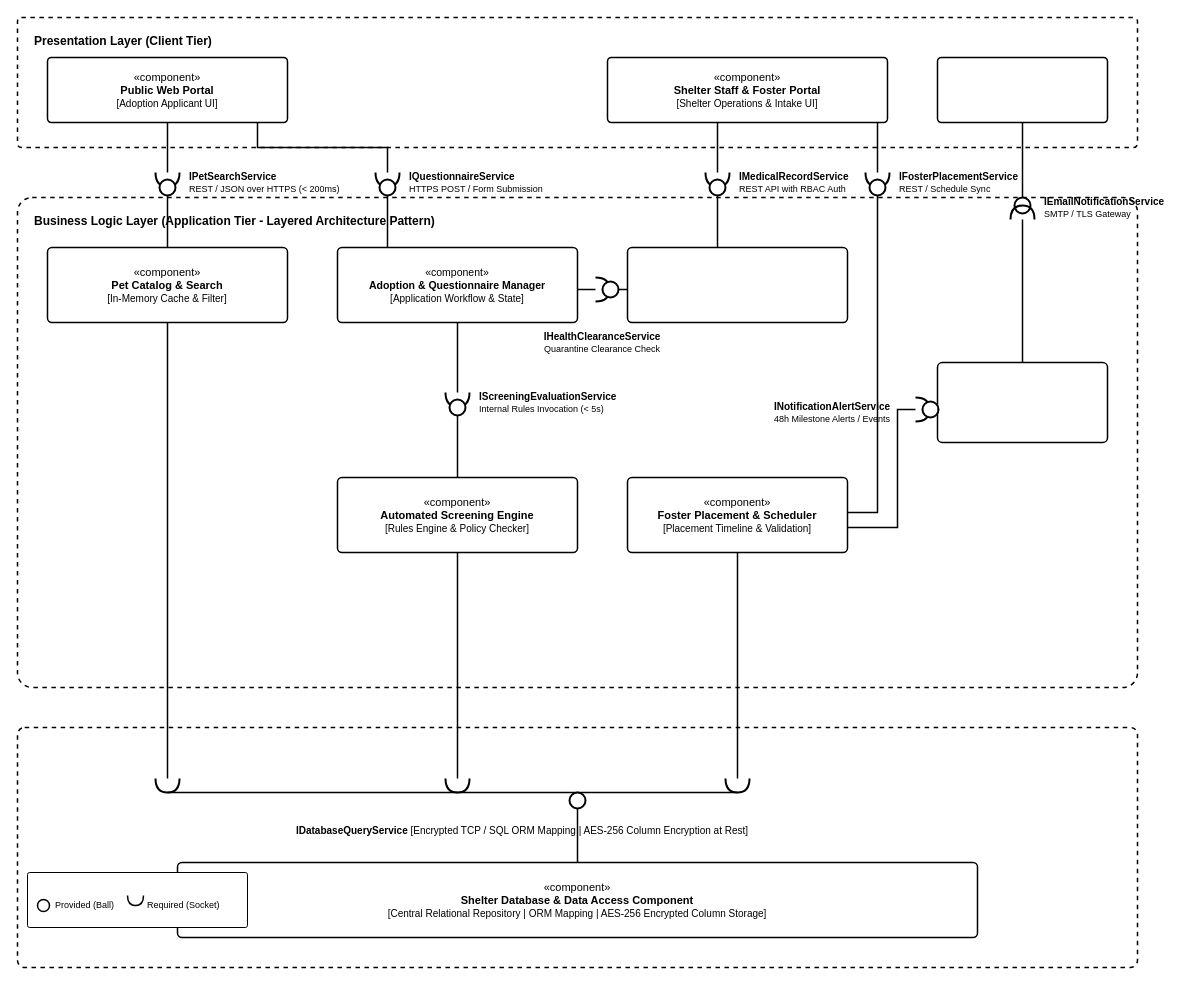
This 1200x986 diagram has some shape labels left out. Each missing label, with the box of its shape:
Data Access & Persistence Layer (Database Tier): (16, 726, 1138, 968)
UML 2.5 Notation Legend: (26, 872, 248, 928)
«component» External Mail Gateway [SMTP / Cloud Email Service]: (936, 56, 1108, 123)
«component» Medical Intake & Vaccination [Health History & Quarantine]: (626, 246, 848, 323)
«component» Notification Dispatcher [Milestone Alert Engine]: (936, 361, 1108, 443)
